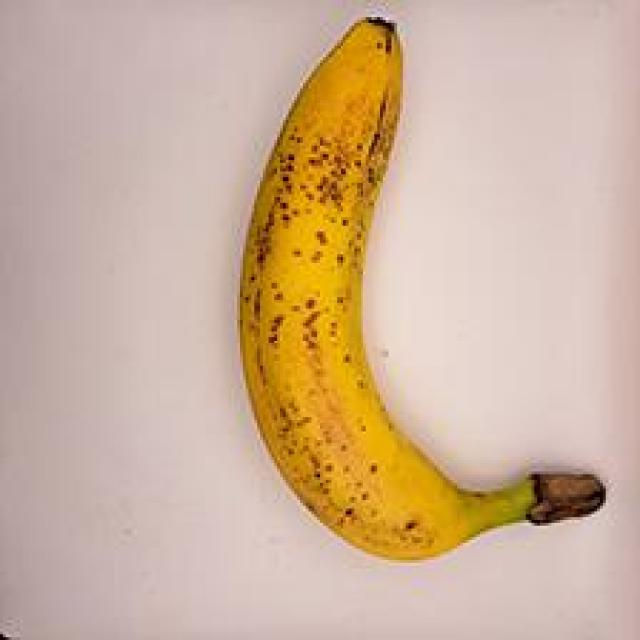Overripe: (190, 0, 633, 582)
